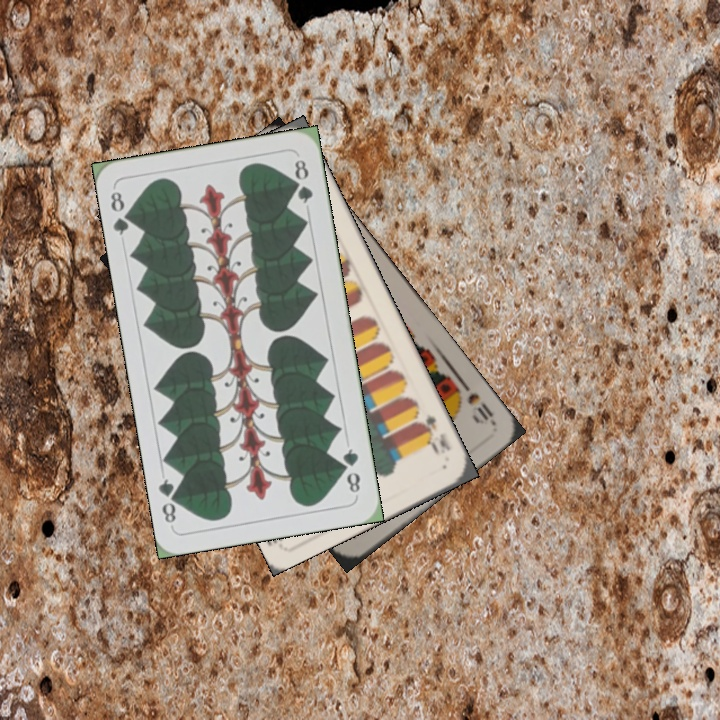E10: (412, 409, 454, 457)
G8: (106, 187, 136, 238), (337, 444, 363, 496)
S10: (450, 374, 497, 428)
